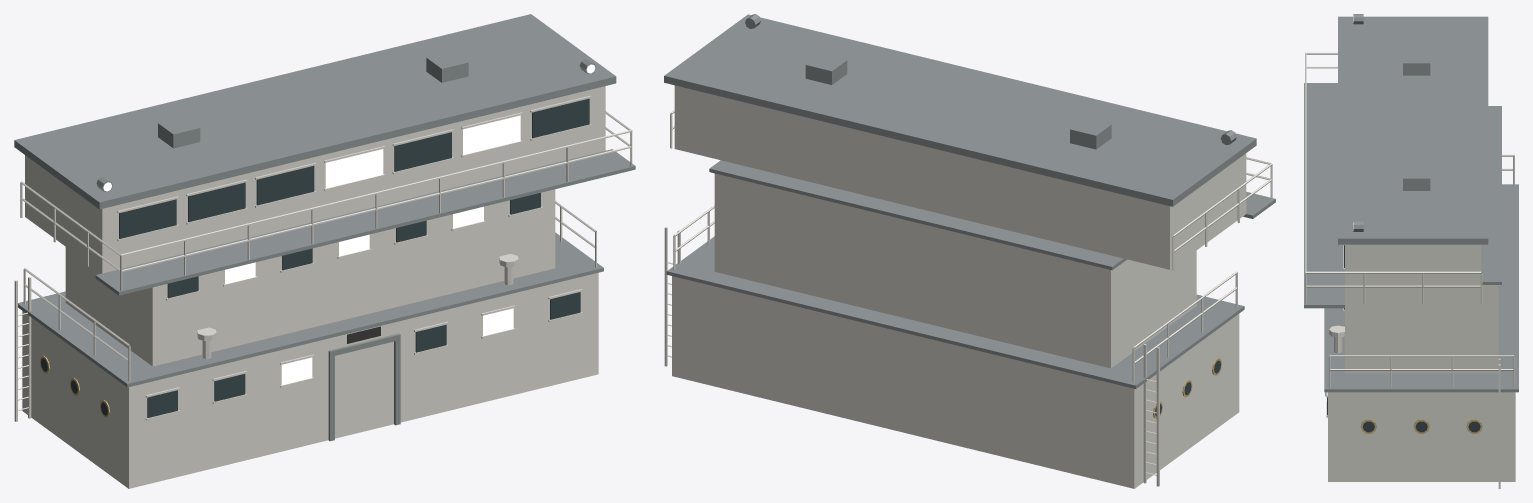
File: ext_bridge_house.fbx
3 renders of one model, left to right at view 1: azimuth 30°, elevation 25°; view 2: azimuth 150°, elevation 25°; view 3: azimuth 270°, elevation 25°, orthographic. The views are drawn at different scales.
Visible parts, largest first — view 1: ext_bridge_house; view 2: ext_bridge_house; view 3: ext_bridge_house.
Part boxes in pixels (<box>): ext_bridge_house: <box>14,14,635,488</box>; ext_bridge_house: <box>664,14,1275,488</box>; ext_bridge_house: <box>1304,14,1518,488</box>.
Size of the model in its own units: 15.4 by 8.6 by 6.3.
